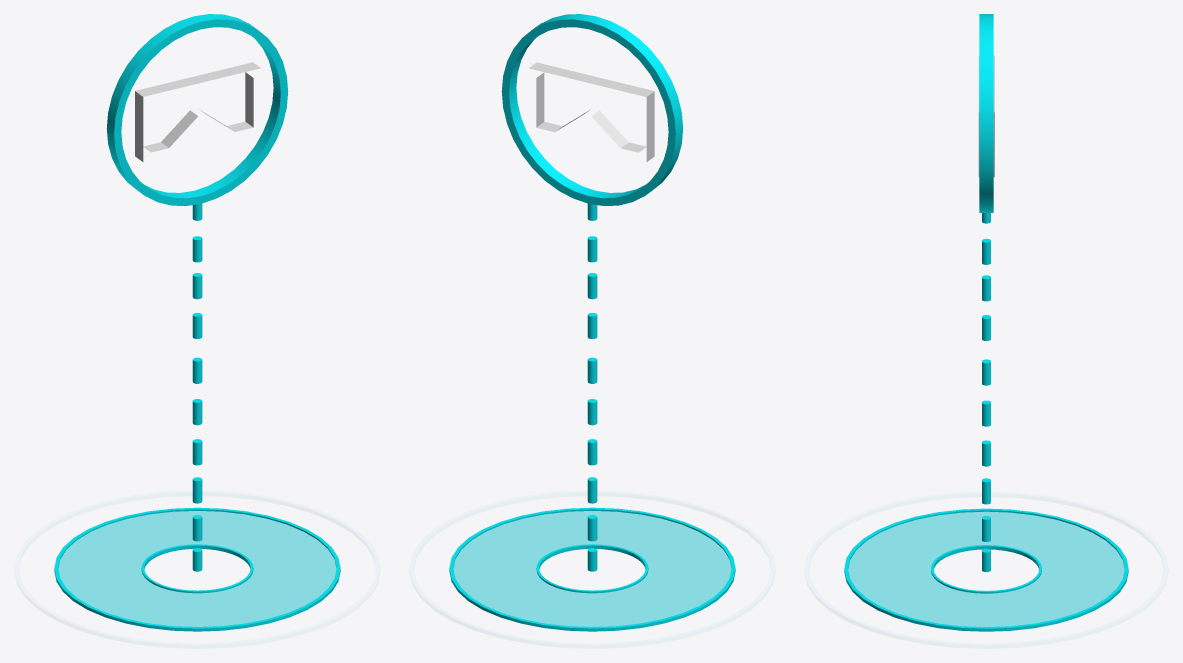
The model's file is shuizha.gltf.
3 renders of one model, left to right at view 1: azimuth 30°, elevation 25°; view 2: azimuth 150°, elevation 25°; view 3: azimuth 270°, elevation 25°, orthographic.
Visible parts, largest first — view 1: Z_UP, shuizha; view 2: Z_UP, shuizha; view 3: Z_UP.
Part boxes in pixels (x1,y1,x2,y2): Z_UP: (54,14,340,631); shuizha: (135,62,260,161); Z_UP: (449,14,735,631); shuizha: (529,62,654,161); Z_UP: (844,14,1128,631).
Size of the model in its own units: 4.52 by 7.52 by 4.52.
